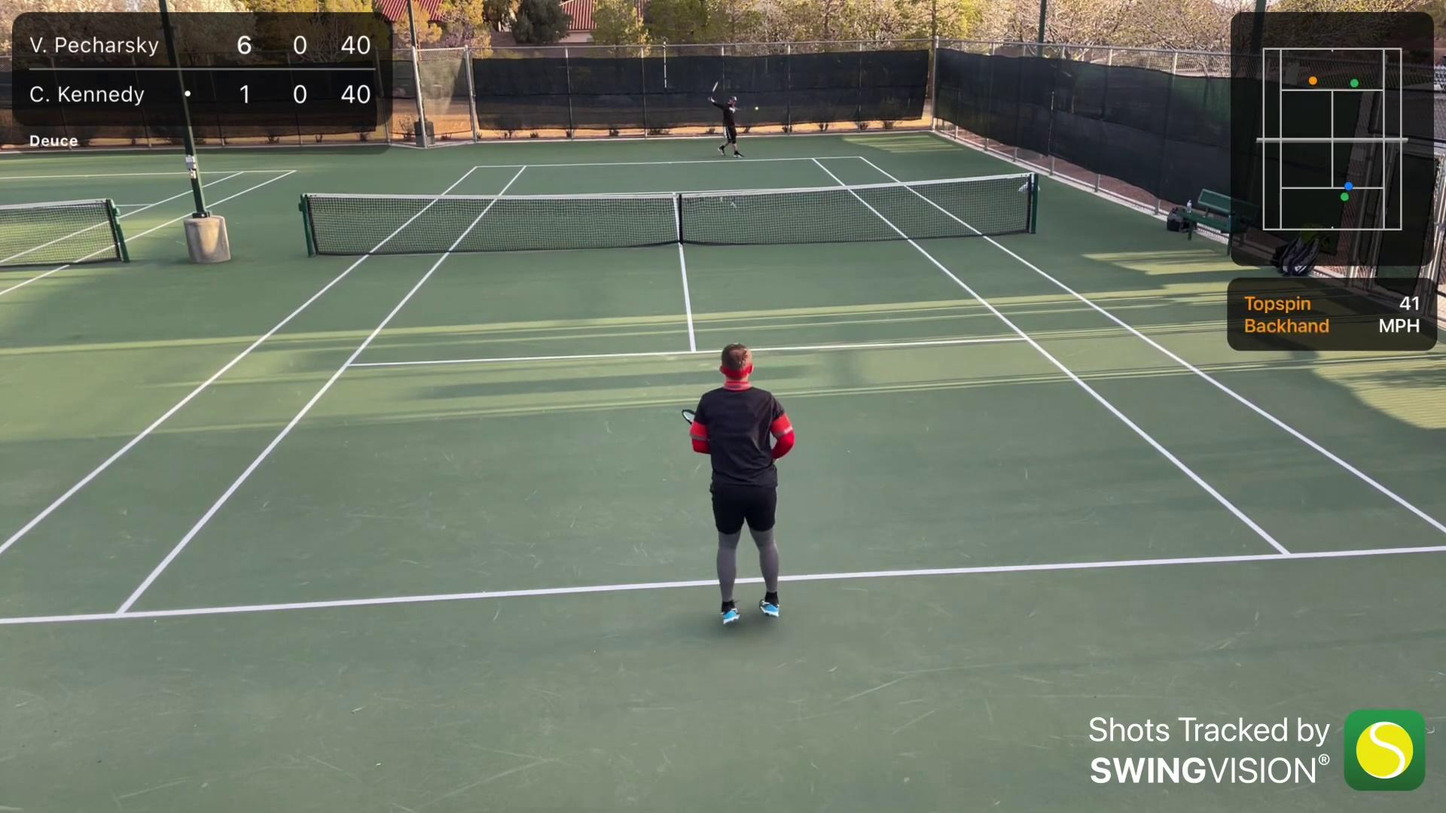ball: (755, 106, 759, 110)
